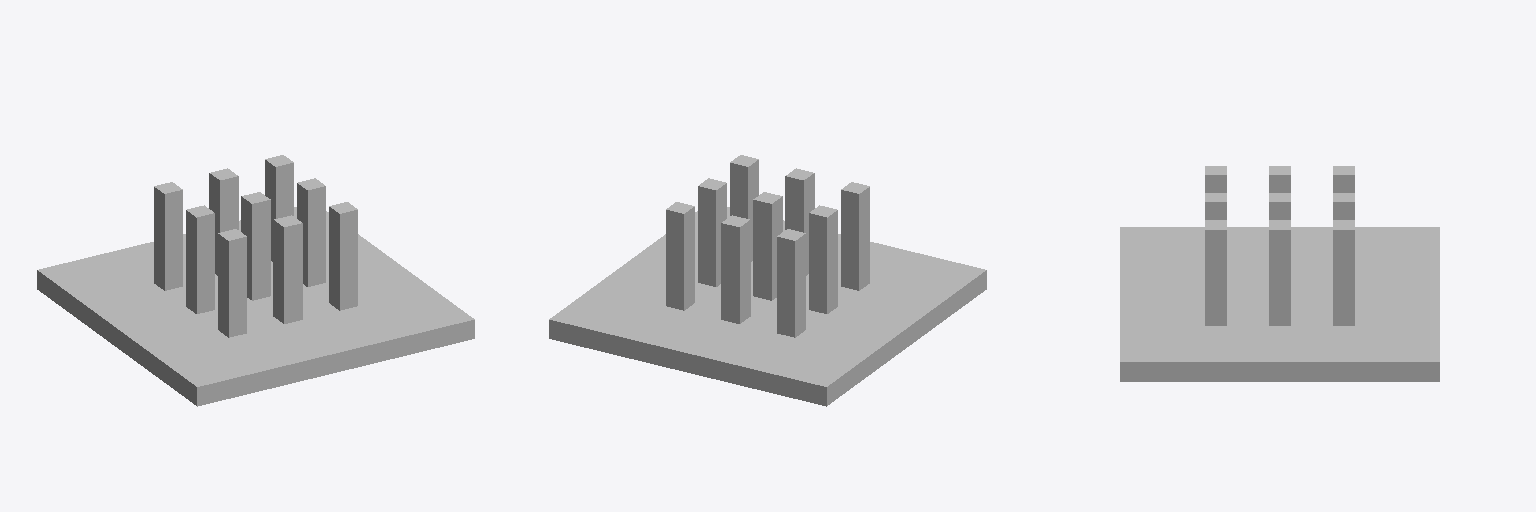
File: Trap_Floor_01.obj
3 views of the same model, side by side, from view 1: azimuth 30°, elevation 25°; view 2: azimuth 150°, elevation 25°; view 3: azimuth 270°, elevation 25° (orthographic).
Visible parts, largest first — view 1: Trap_Floor_01.002; view 2: Trap_Floor_01.002; view 3: Trap_Floor_01.002.
Boxes of the visible parts, <box> form: Trap_Floor_01.002: <box>37,155,474,406</box>; Trap_Floor_01.002: <box>549,155,986,406</box>; Trap_Floor_01.002: <box>1120,166,1439,381</box>.
Size of the model in its own units: 1.5 by 0.6 by 1.5.